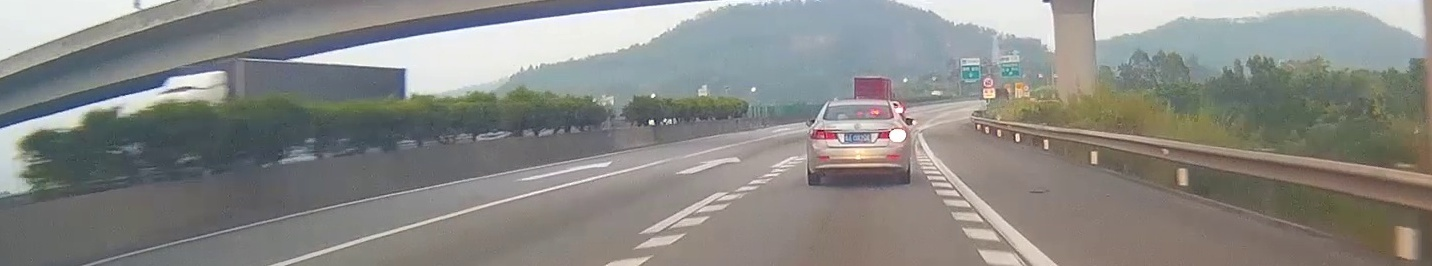L_light: (809, 128, 838, 140)
R_light: (877, 127, 907, 139)
T_light: (849, 118, 868, 120)
day-right: (806, 99, 910, 186)
